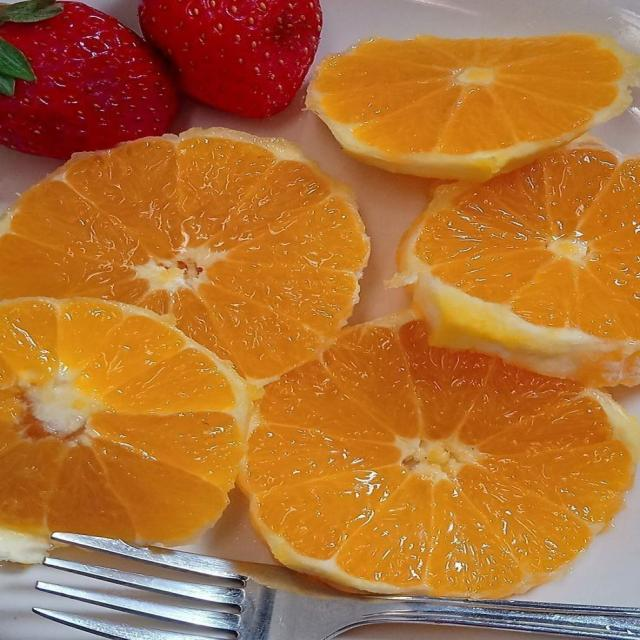orange: (242, 317, 638, 598), (0, 129, 368, 380), (0, 299, 251, 562), (400, 141, 639, 386), (307, 34, 639, 180)
